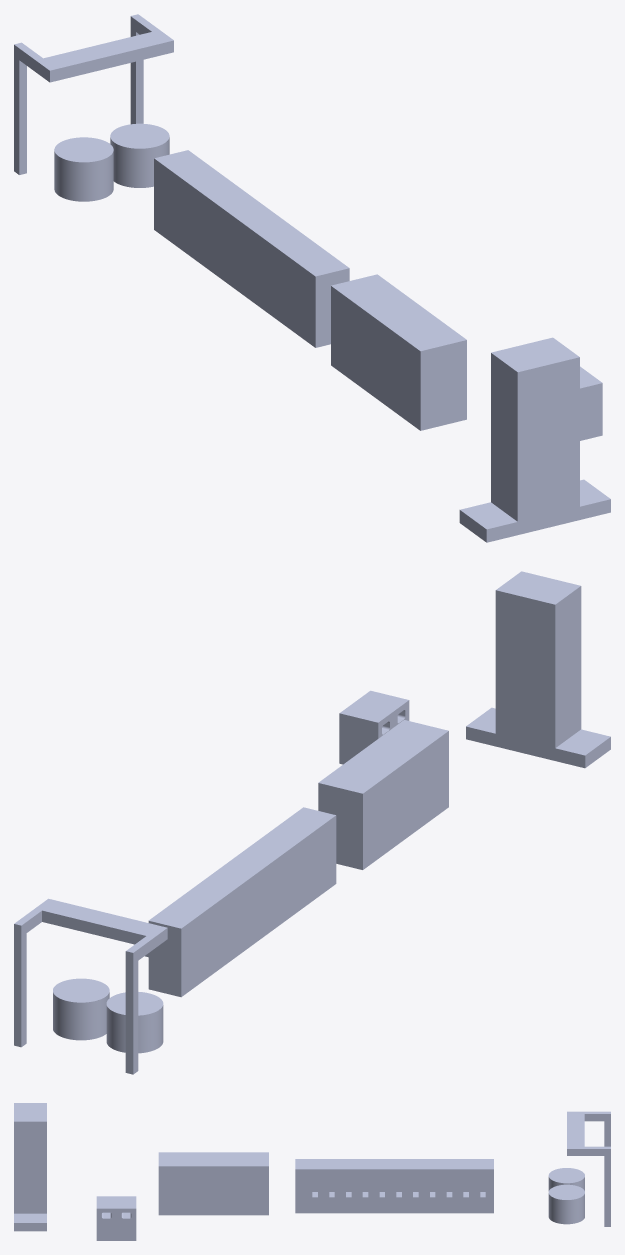
File: dam.obj
3 views of the same model, one above another, from view 1: azimuth 30°, elevation 25°; view 2: azimuth 150°, elevation 25°; view 3: azimuth 270°, elevation 25° (orthographic). The views are drawn at different scales.
Size of the model in its own units: 590 by 501 by 2705.
